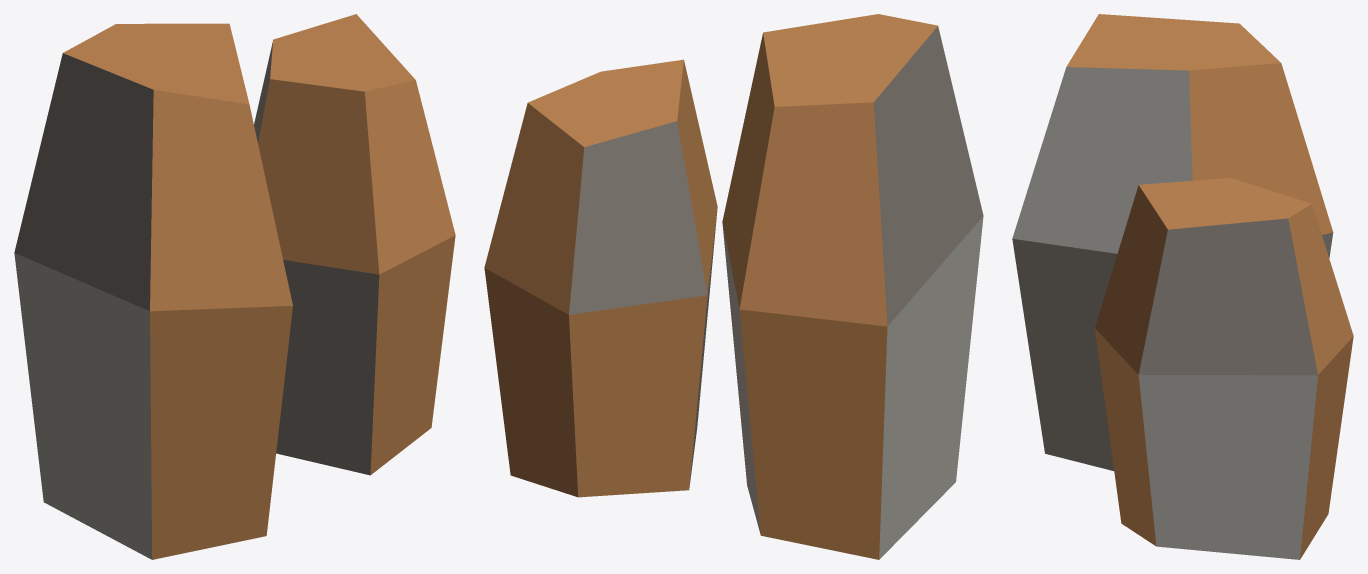
3 views of the same model, side by side, from view 1: azimuth 30°, elevation 25°; view 2: azimuth 150°, elevation 25°; view 3: azimuth 270°, elevation 25° (orthographic). The views are drawn at different scales.
Visible parts, largest first — view 1: Iron_Deposit; view 2: Iron_Deposit; view 3: Iron_Deposit.
Part boxes in pixels (x1,y1,x2,y2): Iron_Deposit: [14, 14, 455, 559]; Iron_Deposit: [484, 14, 983, 559]; Iron_Deposit: [1012, 14, 1353, 559].
Size of the model in its own units: 0.7658 by 0.9051 by 0.6605.
